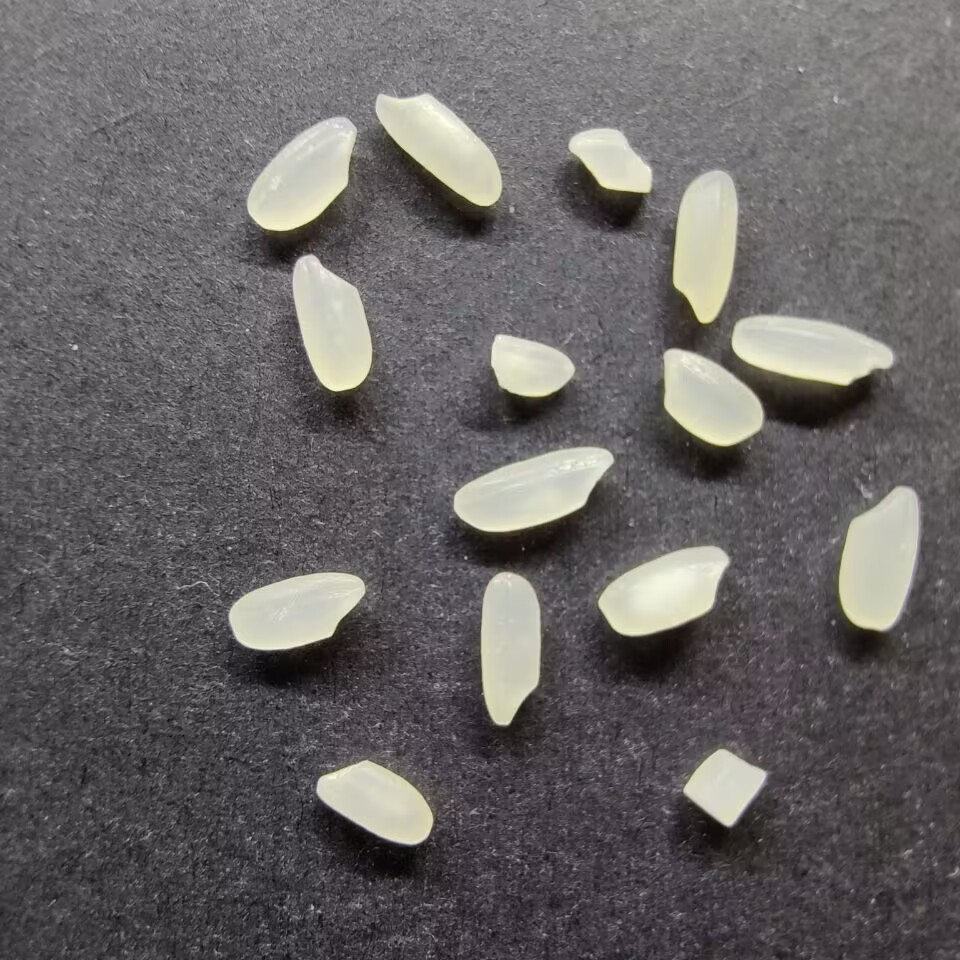broken: (681, 747, 769, 830), (488, 333, 576, 399), (567, 127, 655, 193)
rice: (371, 90, 504, 208), (451, 444, 615, 534), (245, 114, 357, 232), (837, 483, 921, 632), (730, 313, 898, 387), (598, 544, 730, 637), (291, 253, 375, 393), (227, 570, 368, 651), (658, 347, 767, 449), (670, 168, 739, 325), (313, 758, 435, 846), (479, 569, 543, 727)
